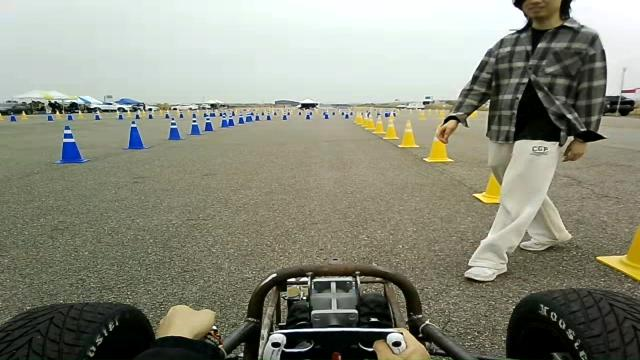blue cone: (53, 124, 90, 164), (121, 120, 149, 150), (165, 118, 185, 140), (188, 113, 202, 135), (204, 113, 214, 131), (218, 110, 228, 128), (132, 106, 143, 122), (253, 109, 261, 124), (227, 113, 235, 127), (238, 110, 245, 124), (245, 108, 252, 122), (10, 110, 18, 122), (67, 107, 74, 120), (117, 109, 125, 120), (94, 109, 102, 120), (266, 108, 271, 123), (47, 109, 53, 120), (147, 110, 154, 119)
yellow cone: (595, 225, 639, 281), (469, 134, 501, 204), (422, 139, 454, 162), (397, 119, 419, 148), (383, 118, 399, 139), (372, 114, 386, 134), (363, 112, 376, 130), (353, 111, 363, 125), (76, 109, 85, 119), (437, 109, 446, 119), (418, 110, 426, 121), (20, 110, 28, 120), (94, 110, 102, 120), (469, 109, 477, 118), (156, 108, 164, 116), (55, 110, 62, 119), (0, 113, 4, 120)
